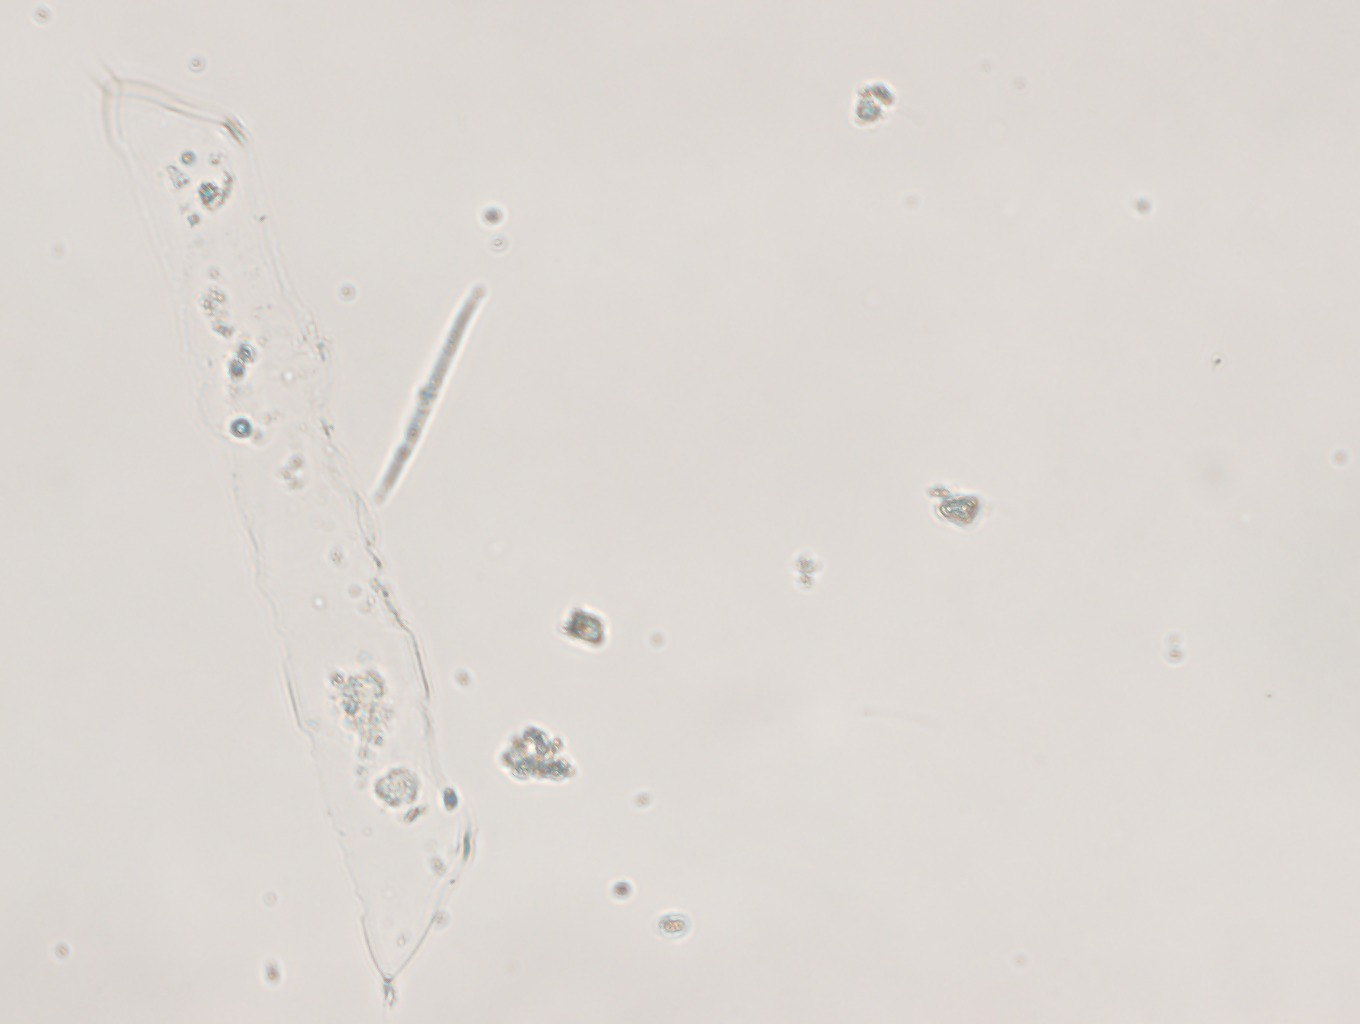rhizosolenia: (88, 49, 472, 1009)
